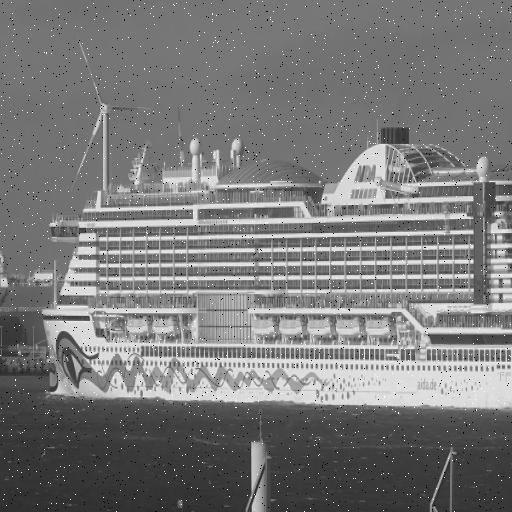cruises: (40, 124, 512, 424)
